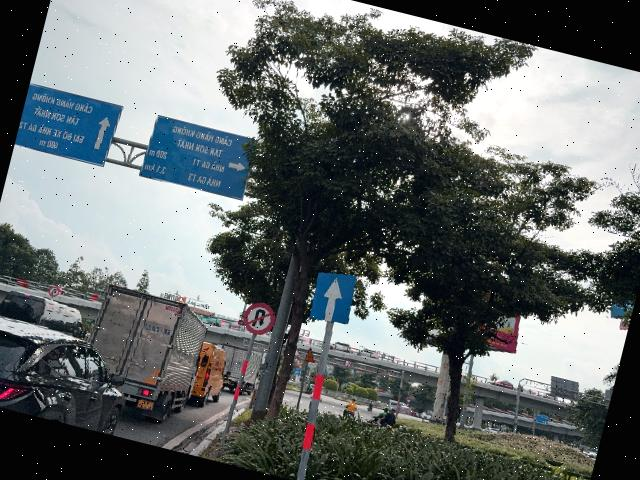cam-quay-dau-xe: (239, 299, 278, 339)
duong-mot-chieu: (306, 267, 359, 328)
